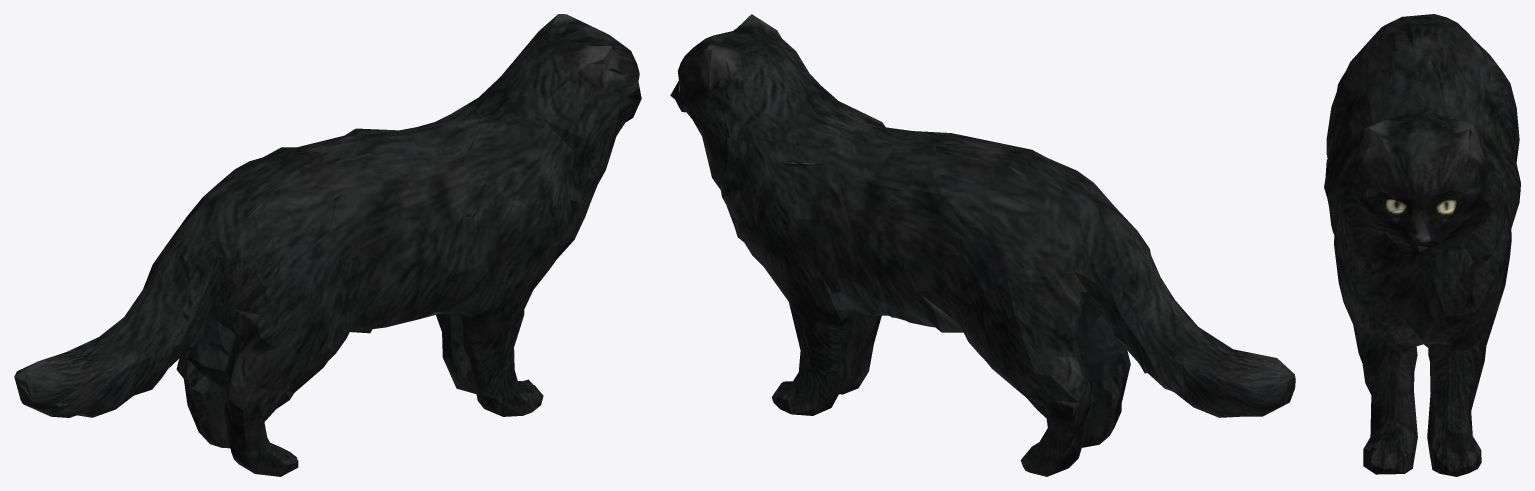
The model's file is COLEMARM-lo.glb.
The picture shows the model from 3 angles, left to right: view 1: azimuth 30°, elevation 25°; view 2: azimuth 150°, elevation 25°; view 3: azimuth 270°, elevation 25°; orthographic projection. The views are drawn at different scales.
Parts seen in each view (by area): view 1: output_unwrapped; view 2: output_unwrapped; view 3: output_unwrapped.
Part boxes in pixels (<box>): output_unwrapped: <box>14,14,641,476</box>; output_unwrapped: <box>670,14,1295,476</box>; output_unwrapped: <box>1324,14,1520,476</box>.
Bounding box in the file's own units: 1.89 × 1 × 0.4629.
1 material, 1 textured.
